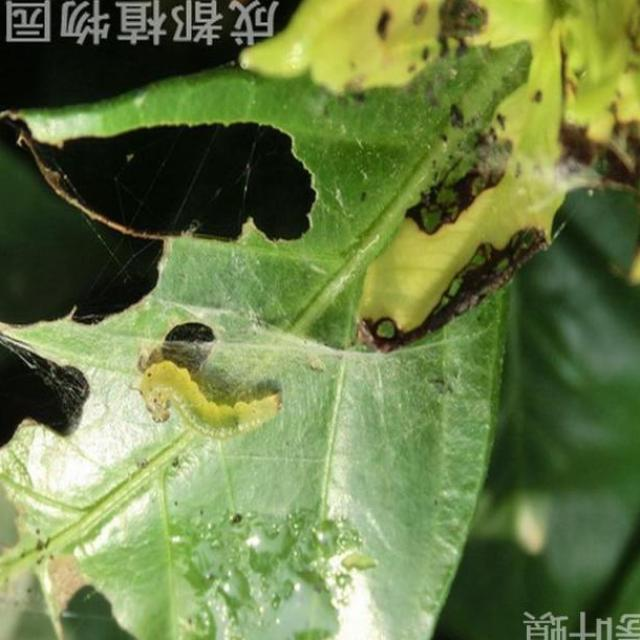leaf folder: (141, 325, 282, 436)
